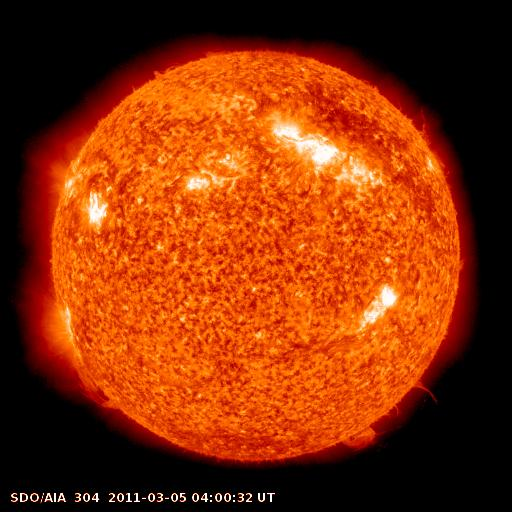prominence: (393, 97, 471, 187), (66, 353, 129, 422), (382, 371, 447, 421), (331, 415, 381, 462)
